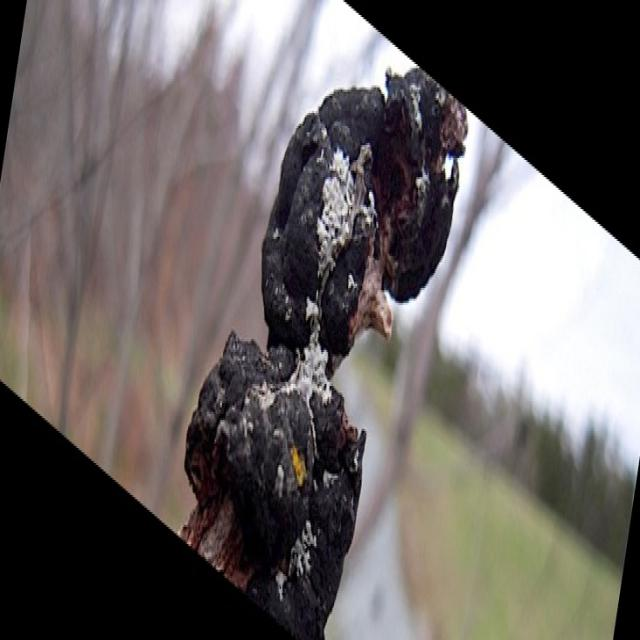Black_knot: (180, 62, 469, 629), (260, 64, 468, 375)
